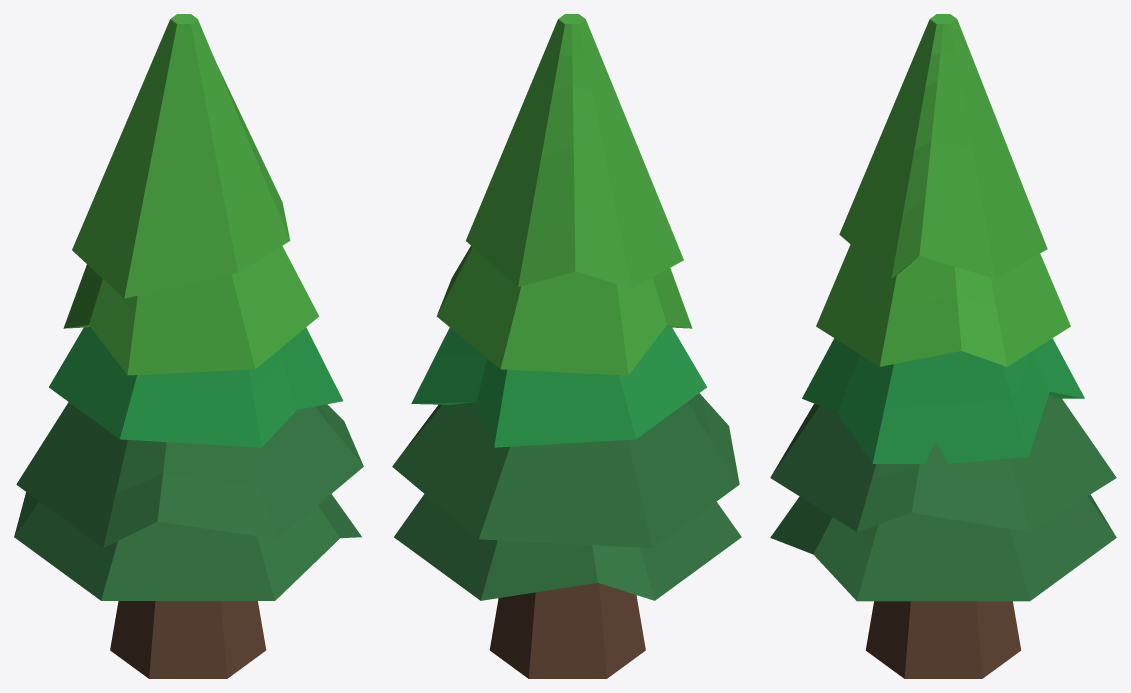
Rendered from PineTreeLeavesTest.fbx.
The picture shows the model from 3 angles, left to right: view 1: azimuth 30°, elevation 25°; view 2: azimuth 150°, elevation 25°; view 3: azimuth 270°, elevation 25°; orthographic projection.
Parts seen in each view (by area): view 1: Branch1.001; view 2: Branch1.001; view 3: Branch1.001.
Boxes of the visible parts, x1,y1,x2,y2 form: Branch1.001: (14,14,363,678); Branch1.001: (392,14,741,678); Branch1.001: (770,14,1116,678).
Bounding box in the file's own units: 7.21 × 16.1 × 8.04.
